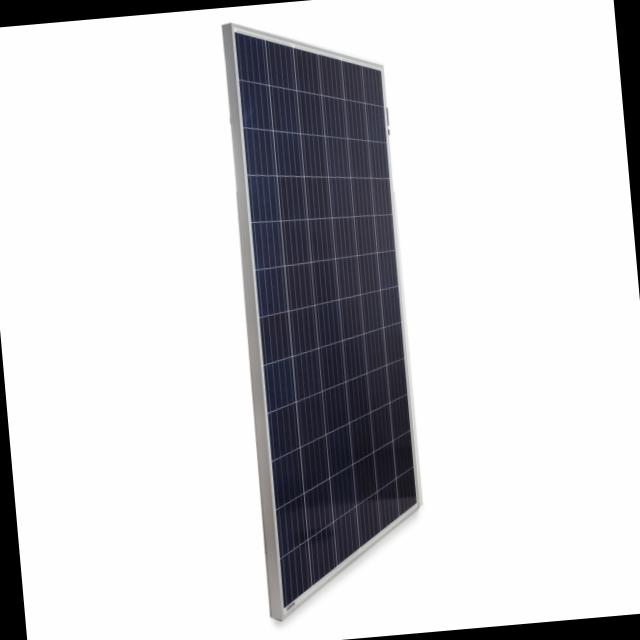no faulty: (240, 43, 420, 610)
